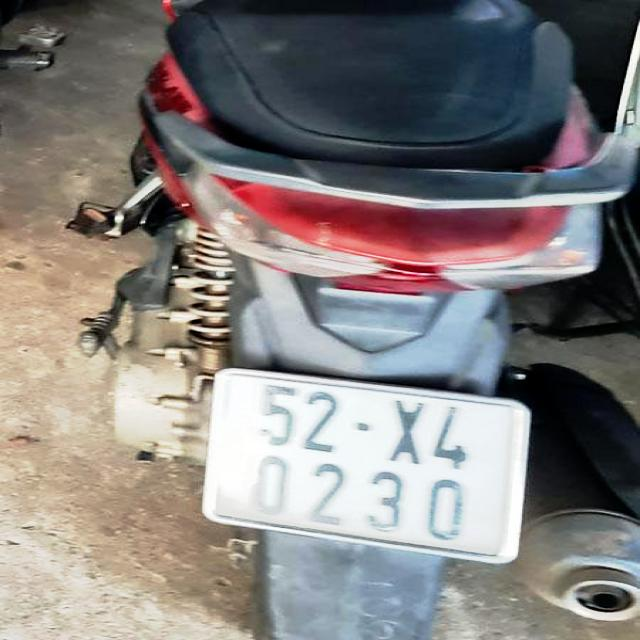license_plate: (214, 369, 521, 557)
